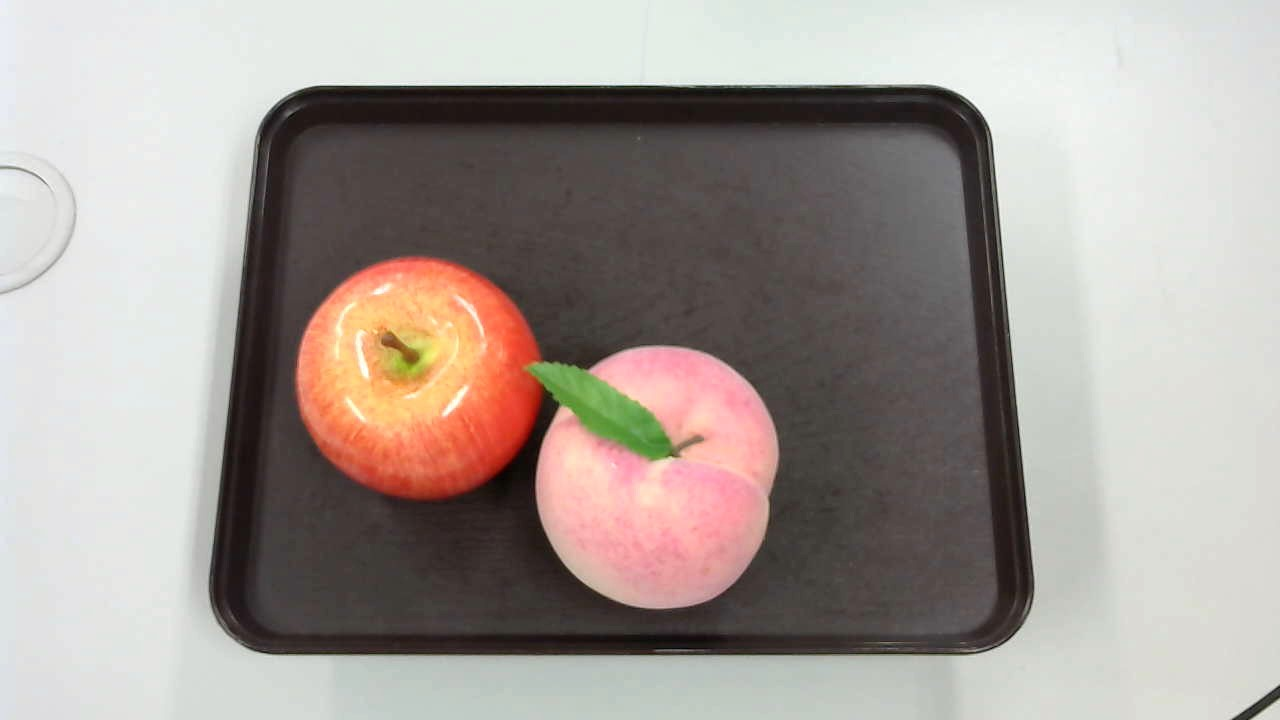peach: (524, 335, 782, 611)
red apple: (291, 255, 549, 514)
